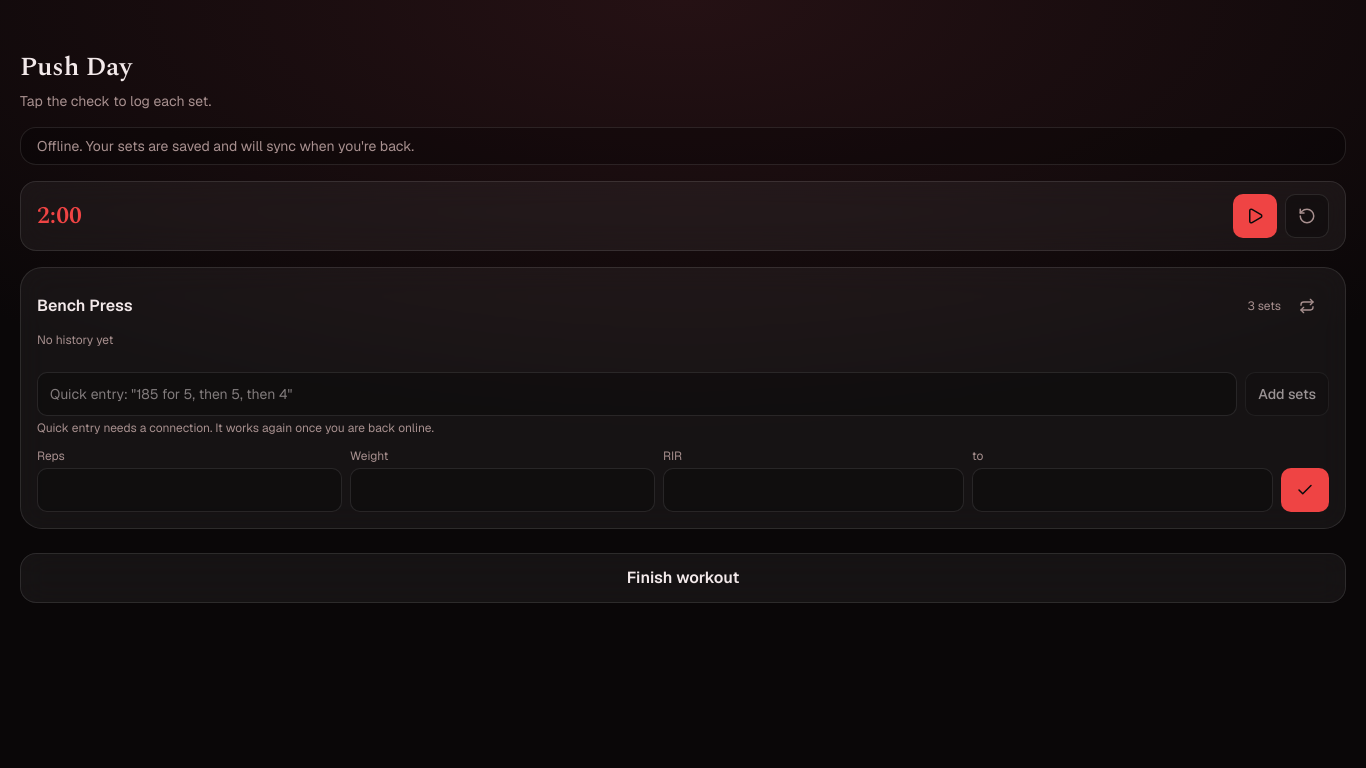
Test: ActiveWorkout motion › animates when a set is logged
Check: the heading "Bench Press" is shown, box [37,294,132,318]
Type "8" into the field labelled "Reps" at (190, 490), box [37,468,342,512]
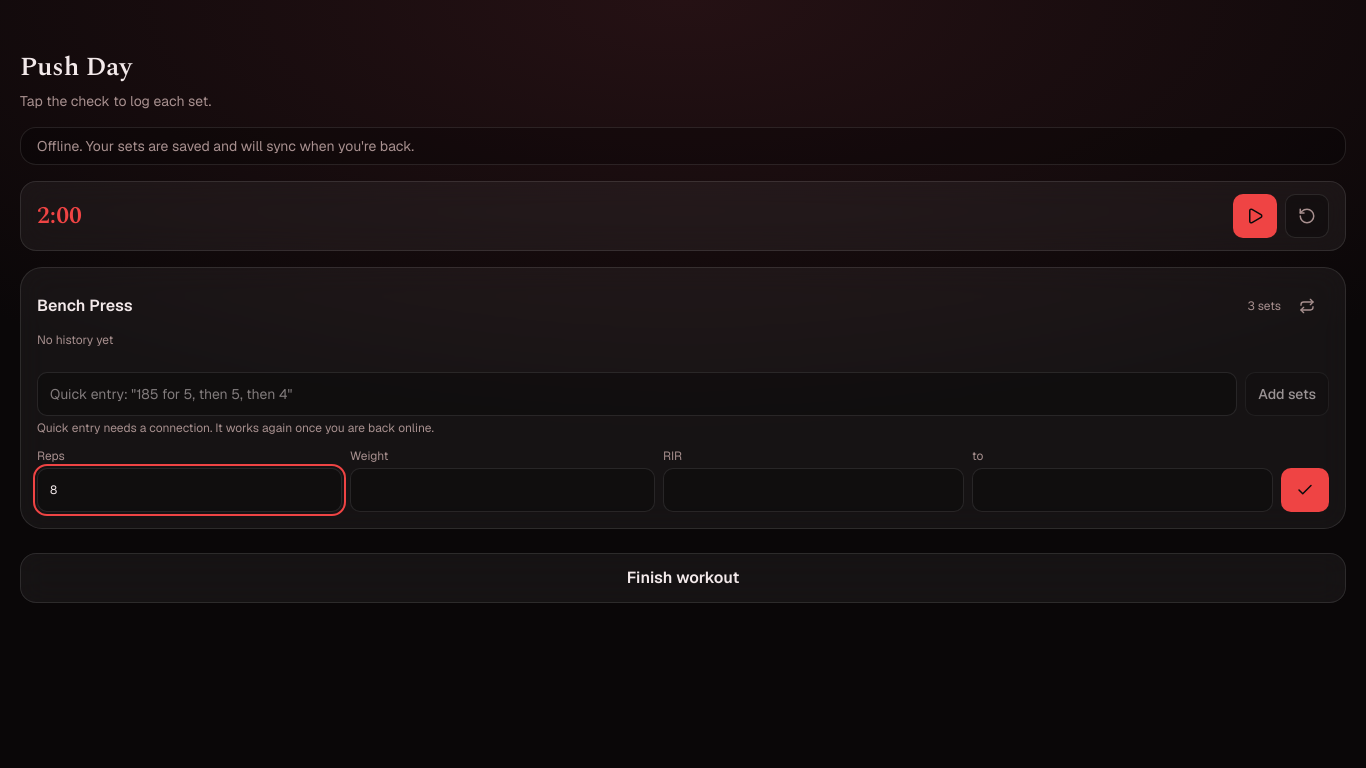
Type "135" into the field labelled "Weight" at (502, 490), box [350,468,655,512]
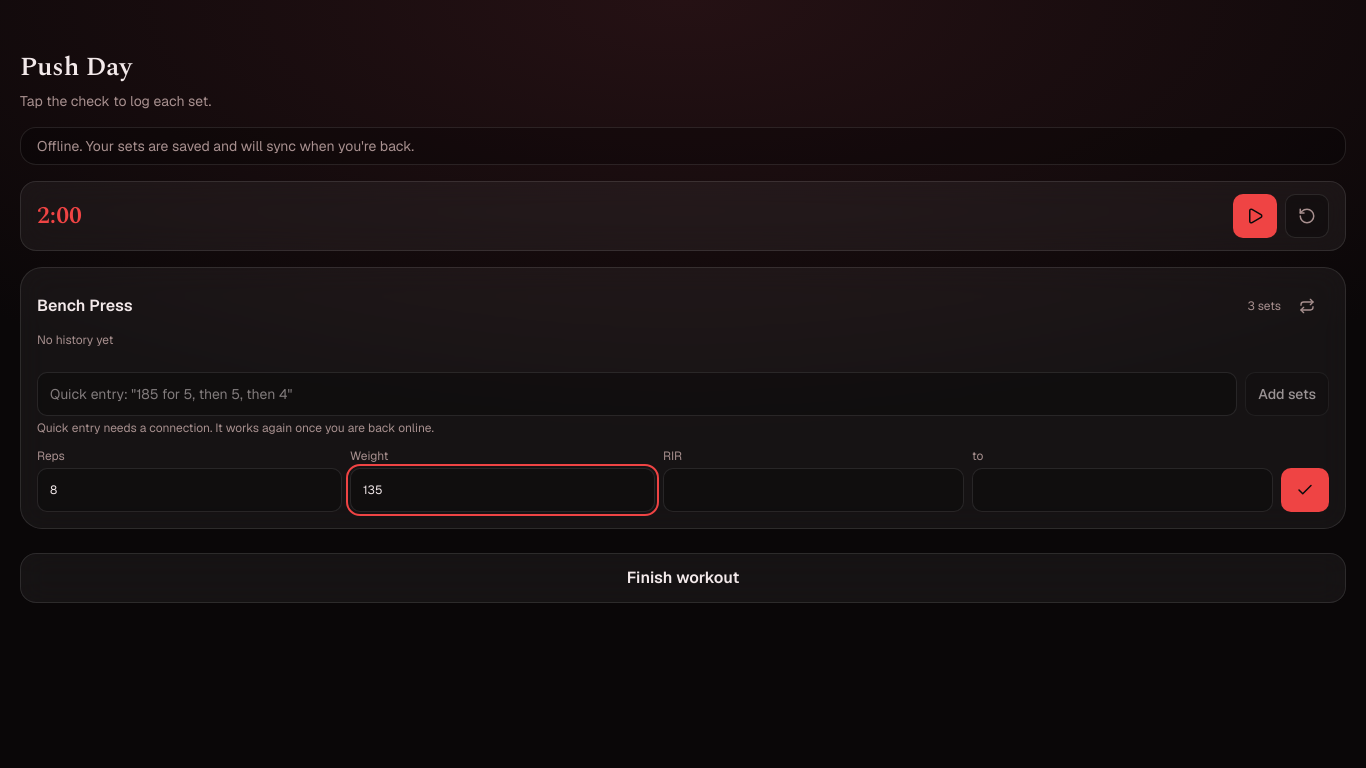
Click the button named "Log set" at (1305, 490), box [1281,468,1329,512]
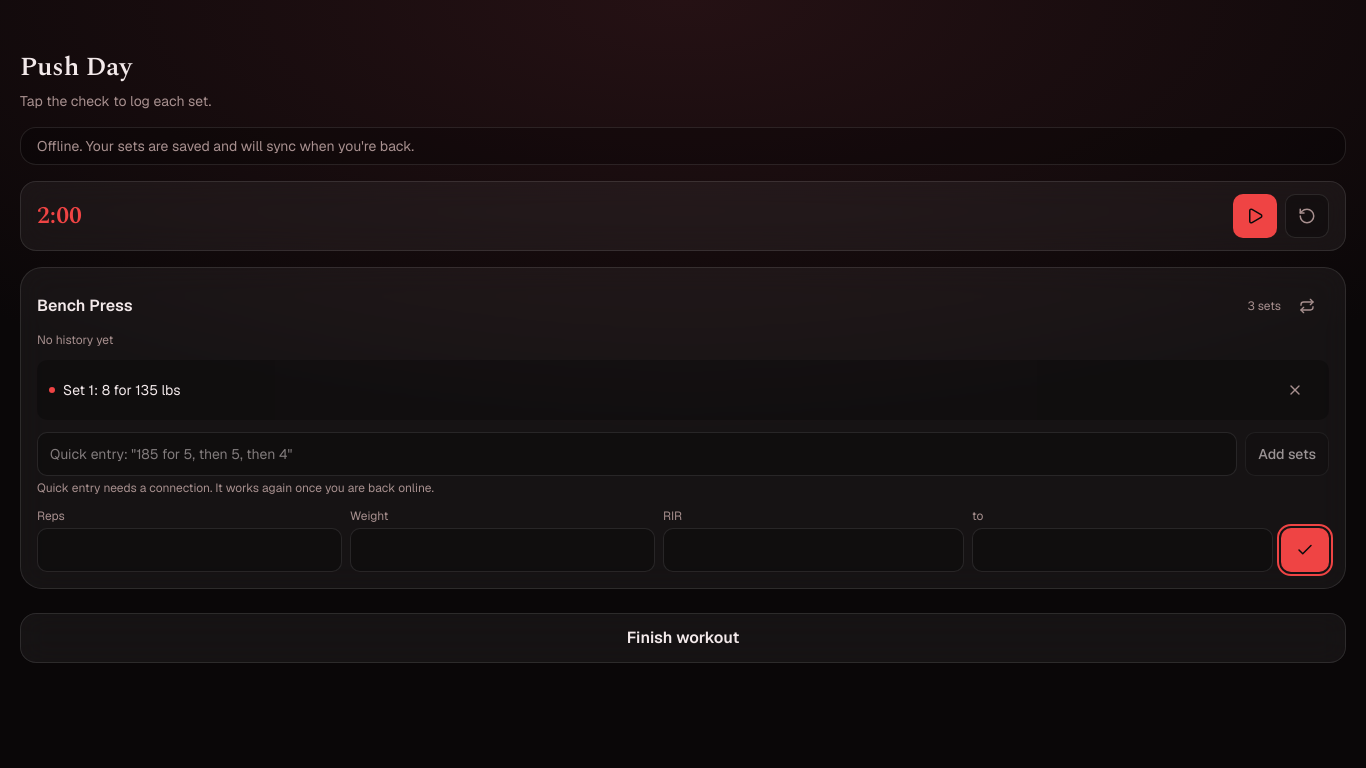
Check: the button "Set 1: 8 for 135 lbs" is shown, box [49,368,181,412]
